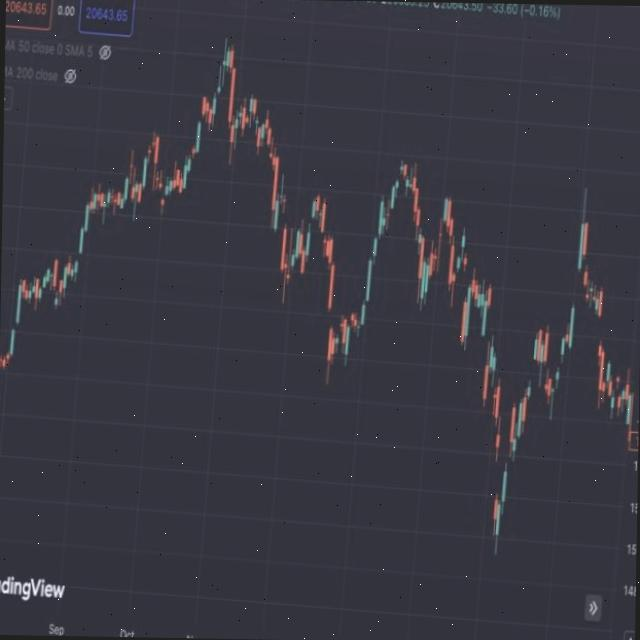Gap Down: (492, 435, 498, 511), (326, 284, 332, 356), (280, 198, 286, 270), (598, 294, 604, 356), (485, 303, 490, 377), (582, 223, 588, 284), (462, 258, 466, 316), (158, 182, 164, 205)
Gap Up: (570, 224, 582, 345), (10, 286, 20, 354), (195, 96, 205, 152), (503, 431, 512, 485), (74, 226, 84, 272), (306, 200, 314, 256), (528, 342, 536, 394), (555, 339, 564, 379), (396, 166, 402, 188)
